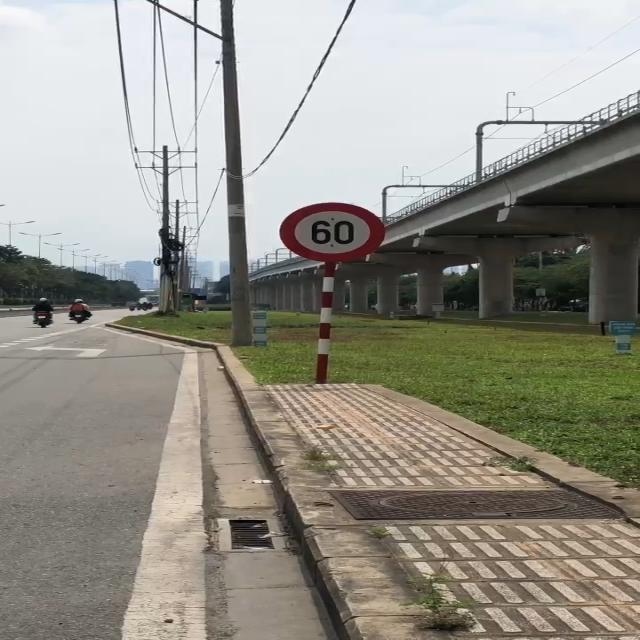Bien bao toc do toi da cho phep: (274, 201, 387, 262)
